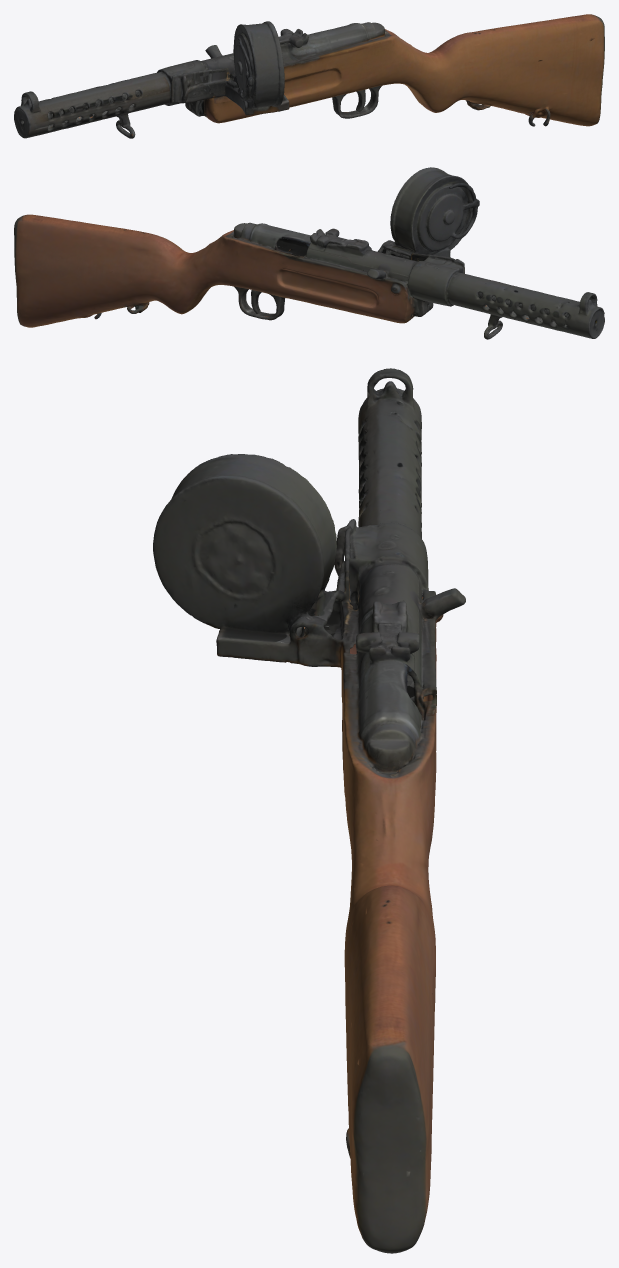
Rendered from Submachine_Gun_MP_18_1030144847_texture.fbx.
3 renders of one model, top to bottom at view 1: azimuth 30°, elevation 25°; view 2: azimuth 150°, elevation 25°; view 3: azimuth 270°, elevation 25°, orthographic. The views are drawn at different scales.
Parts seen in each view (by area): view 1: input; view 2: input; view 3: input.
Boxes of the visible parts, x1,y1,x2,y2 form: input: [14, 14, 604, 138]; input: [14, 167, 604, 339]; input: [153, 368, 465, 1253].
Size of the model in its own units: 190 by 67.2 by 44.45.
Materials: 1 (1 with a texture image).
